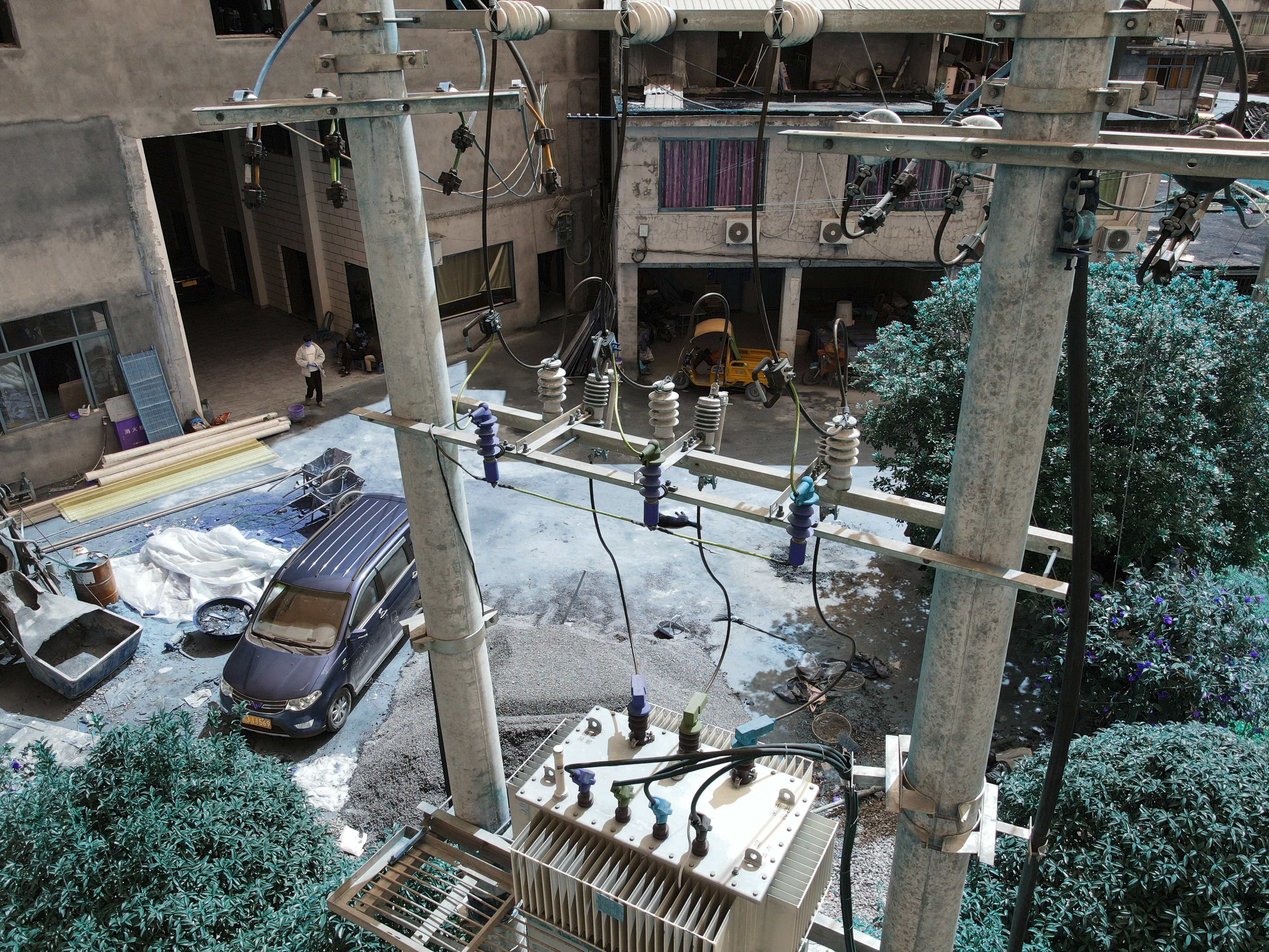severe_soiling_no_discharge_whole: (612, 1, 679, 48), (484, 3, 553, 45), (824, 412, 862, 488), (763, 3, 824, 48), (647, 380, 681, 444), (536, 355, 569, 419), (1061, 208, 1098, 241)
